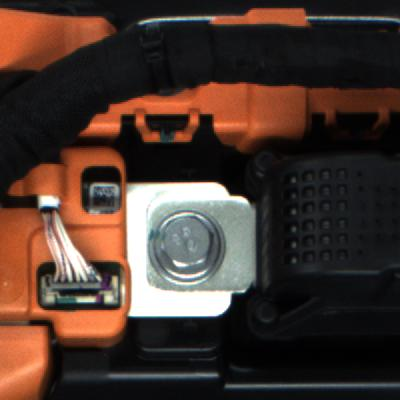nut_b: (143, 210, 230, 284)
